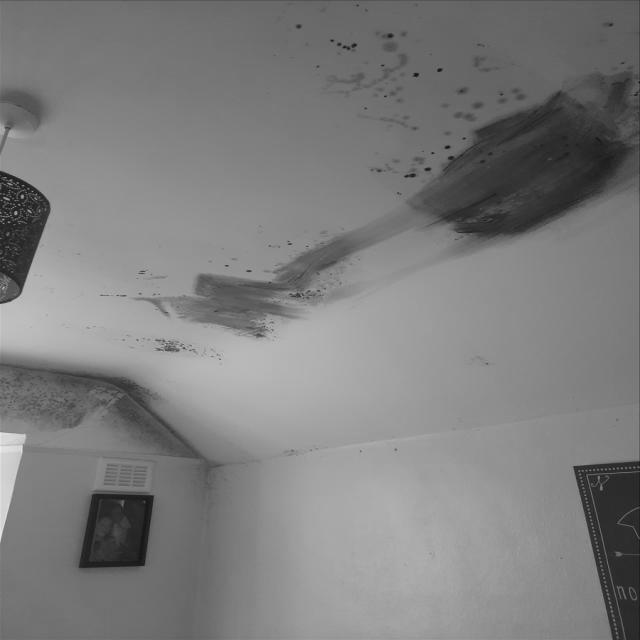stain marks: (270, 0, 640, 272), (0, 340, 234, 497), (73, 228, 398, 336), (38, 308, 242, 382), (254, 427, 342, 469), (451, 348, 518, 382), (349, 442, 410, 468), (434, 414, 484, 442)
